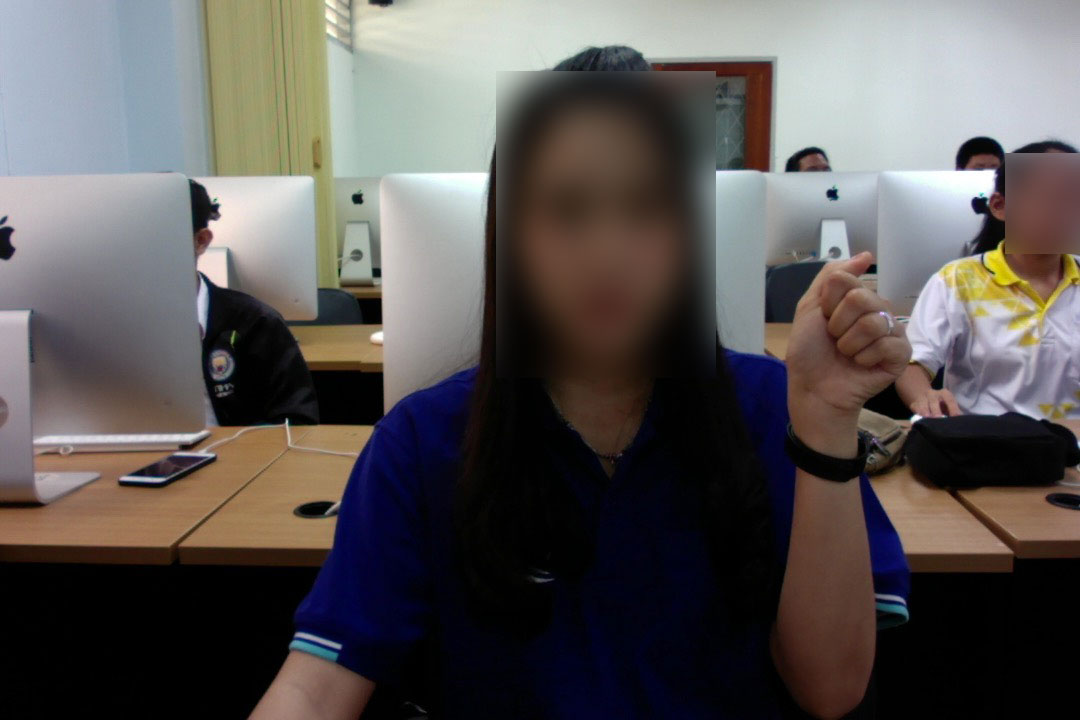or: (775, 241, 920, 453)
